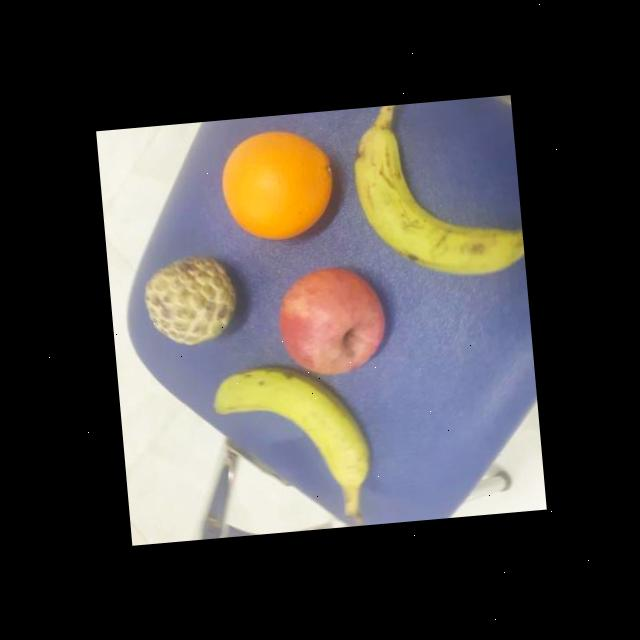Sakya fruit: (138, 250, 238, 348)
apple: (270, 260, 391, 382)
banana: (343, 109, 525, 288), (205, 357, 378, 504)
orange: (214, 120, 340, 246)
